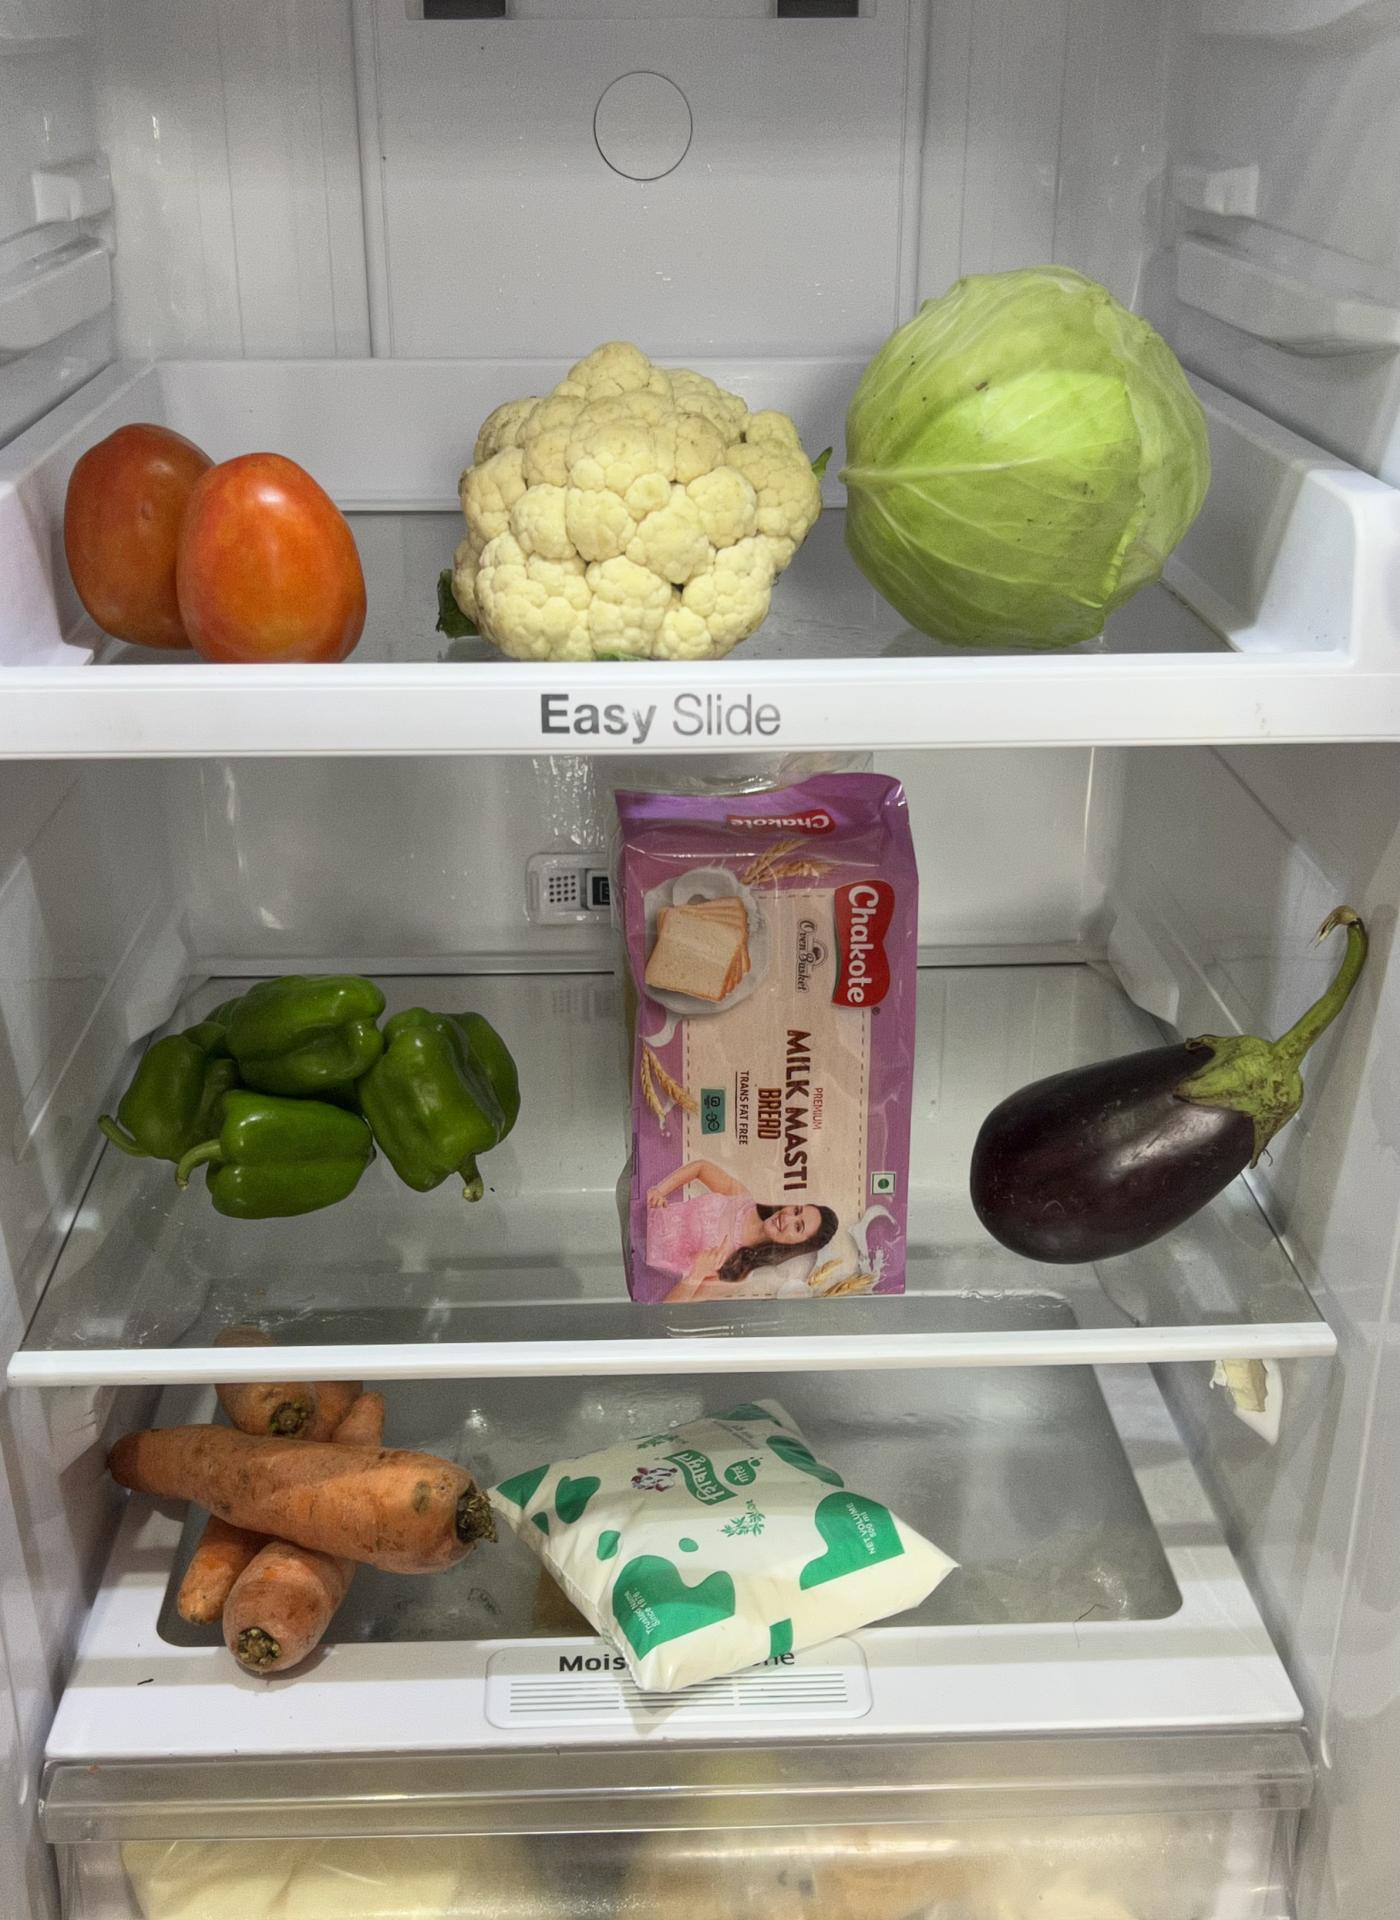bread: (607, 763, 927, 1319)
cabbage: (829, 262, 1206, 642)
capsicum: (107, 961, 522, 1218)
cauliflower: (461, 346, 817, 668)
tomato: (61, 413, 373, 665)
